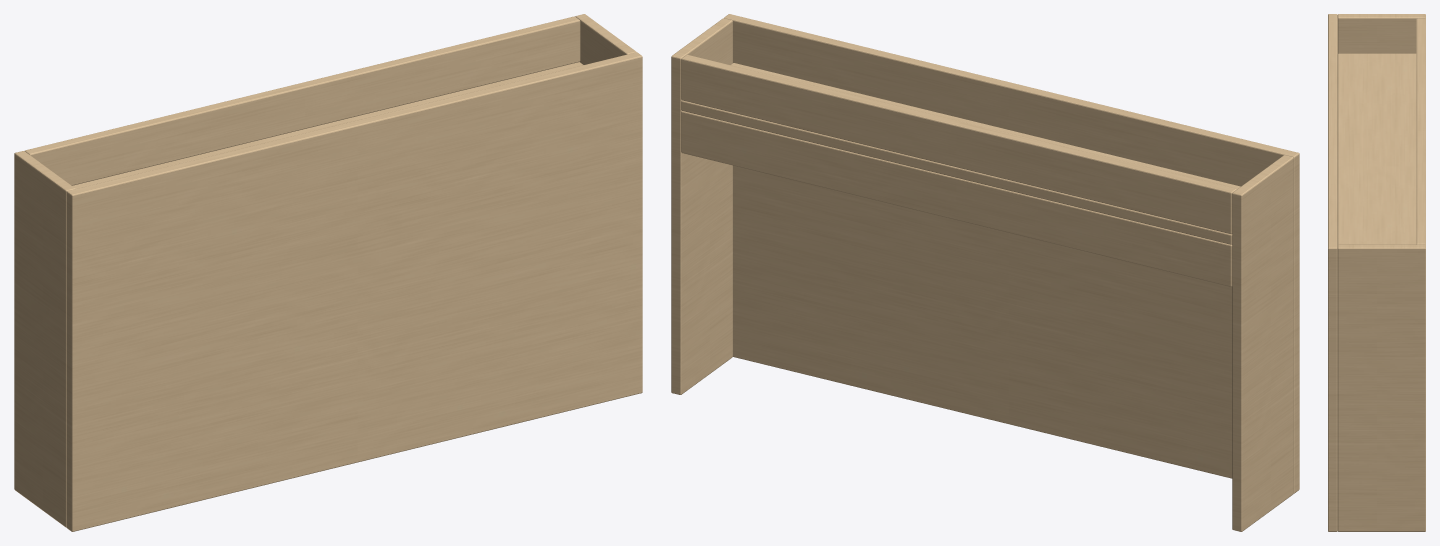
File: head_louis_850_maple.glb
3 renders of one model, left to right at view 1: azimuth 30°, elevation 25°; view 2: azimuth 150°, elevation 25°; view 3: azimuth 270°, elevation 25°, orthographic. The views are drawn at different scales.
Visible parts, largest first — view 1: head_louis_850_maple; view 2: head_louis_850_maple; view 3: head_louis_850_maple.
Boxes of the visible parts, x1,y1,x2,y2 form: head_louis_850_maple: [14, 14, 642, 531]; head_louis_850_maple: [671, 14, 1299, 531]; head_louis_850_maple: [1328, 14, 1425, 531].
Size of the model in its own units: 0.85 by 0.48 by 0.15.
Materials: 4 (2 with a texture image).
